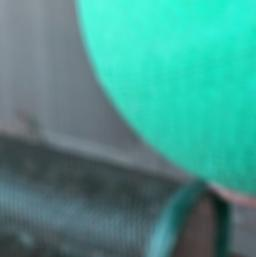algae: (77, 0, 256, 203)
